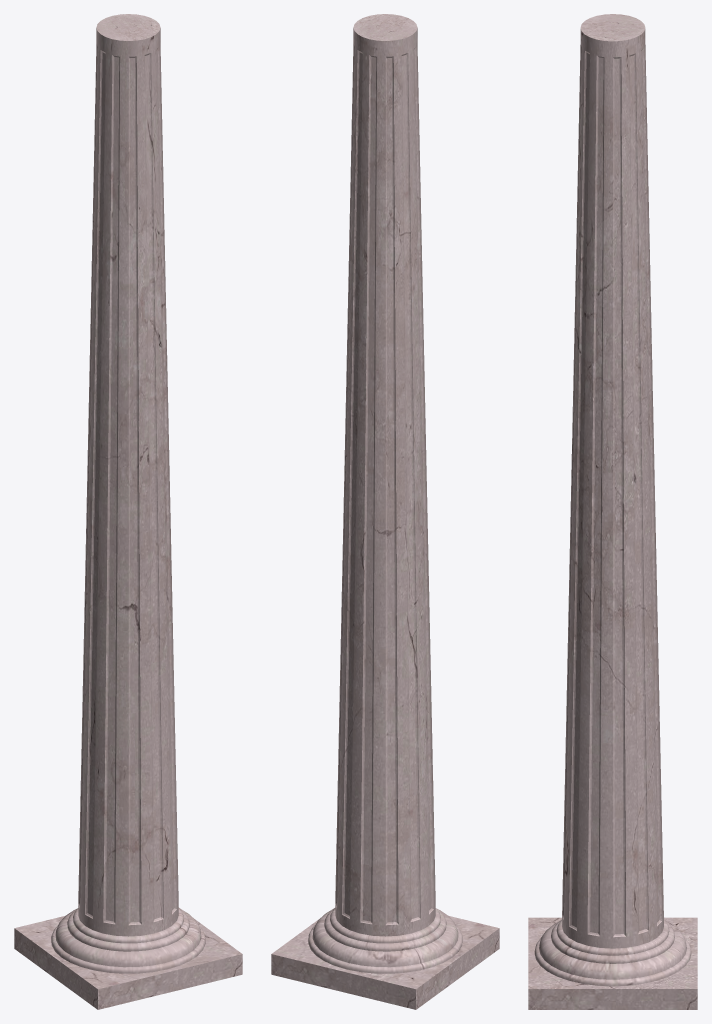
File: pasted__column_gold02.fbx
3 views of the same model, side by side, from view 1: azimuth 30°, elevation 25°; view 2: azimuth 150°, elevation 25°; view 3: azimuth 270°, elevation 25° (orthographic).
Parts seen in each view (by area): view 1: pasted__marble_tiles_pink_2, pasted__marble_tiles_pink, pasted__marble_tiles_pink_3; view 2: pasted__marble_tiles_pink_2, pasted__marble_tiles_pink, pasted__marble_tiles_pink_3; view 3: pasted__marble_tiles_pink_2, pasted__marble_tiles_pink, pasted__marble_tiles_pink_3.
Part boxes in pixels (left/top/right/bottom): pasted__marble_tiles_pink_2: left=78, top=14, right=178, bottom=936; pasted__marble_tiles_pink: left=14, top=907, right=242, bottom=1009; pasted__marble_tiles_pink_3: left=51, top=908, right=205, bottom=973; pasted__marble_tiles_pink_2: left=335, top=14, right=435, bottom=936; pasted__marble_tiles_pink: left=271, top=907, right=499, bottom=1009; pasted__marble_tiles_pink_3: left=308, top=908, right=462, bottom=973; pasted__marble_tiles_pink_2: left=562, top=14, right=663, bottom=948; pasted__marble_tiles_pink: left=528, top=917, right=697, bottom=1009; pasted__marble_tiles_pink_3: left=534, top=920, right=691, bottom=986.
Size of the model in its own units: 96.06 by 96.06 by 593.
